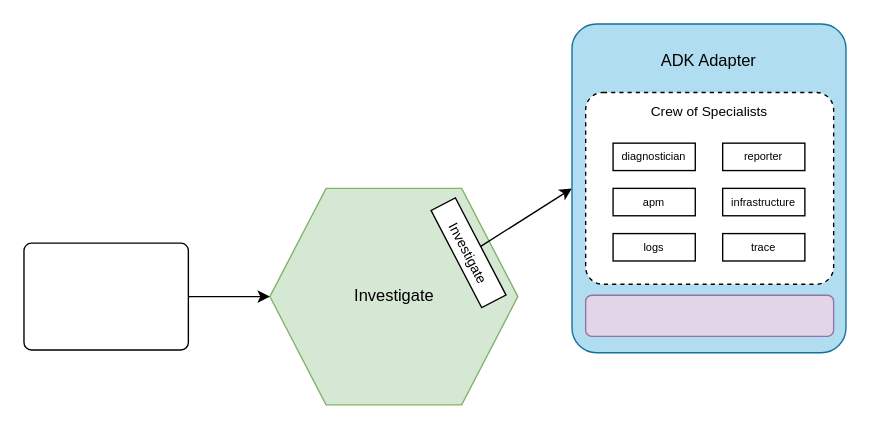
Some shapes in this 870 by 429 pixel diagram are drawn without their labels. Here are the shapes that lost their labels. From the top down, the centre of each, then its label:
the point at 105,296: App
the point at 709,315: Datadog MCP Server
